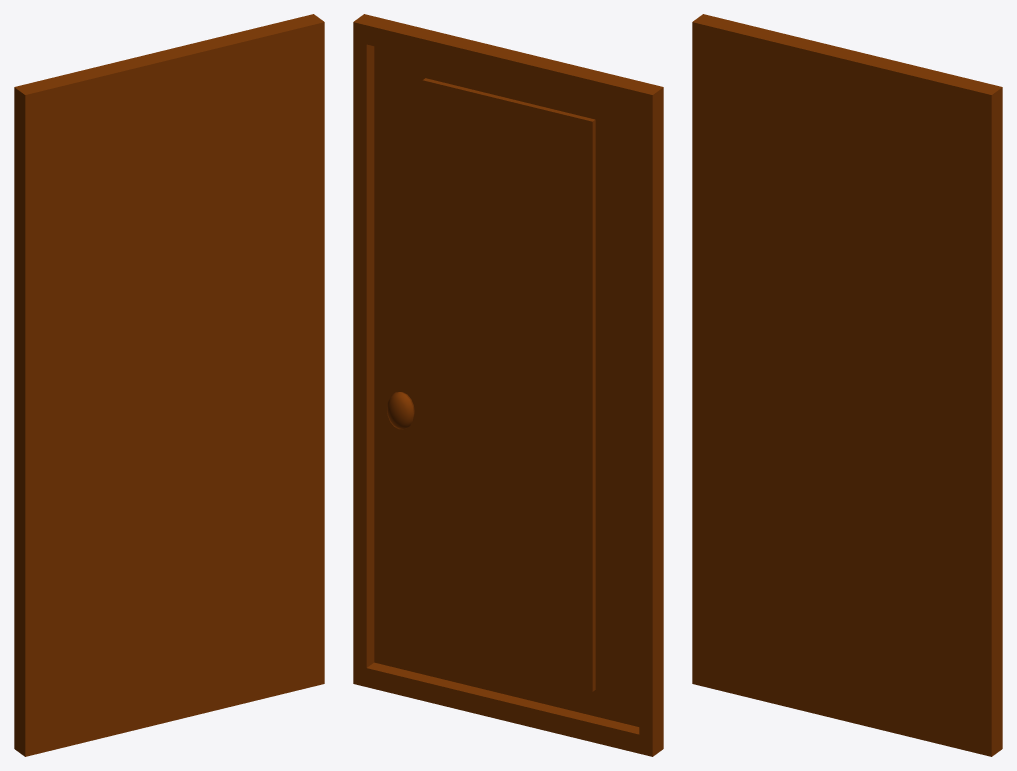
The model's file is house_template_6.fbx.
3 views of the same model, side by side, from view 1: azimuth 30°, elevation 25°; view 2: azimuth 150°, elevation 25°; view 3: azimuth 330°, elevation 25° (orthographic).
Parts seen in each view (by area): view 1: house template_6; view 2: house template_6; view 3: house template_6.
Boxes of the visible parts, x1=… form: house template_6: x1=14, y1=14, x2=324, y2=756; house template_6: x1=353, y1=14, x2=663, y2=756; house template_6: x1=692, y1=14, x2=1002, y2=756.
Bounding box in the file's own units: 98.76 × 209 × 6.87.
